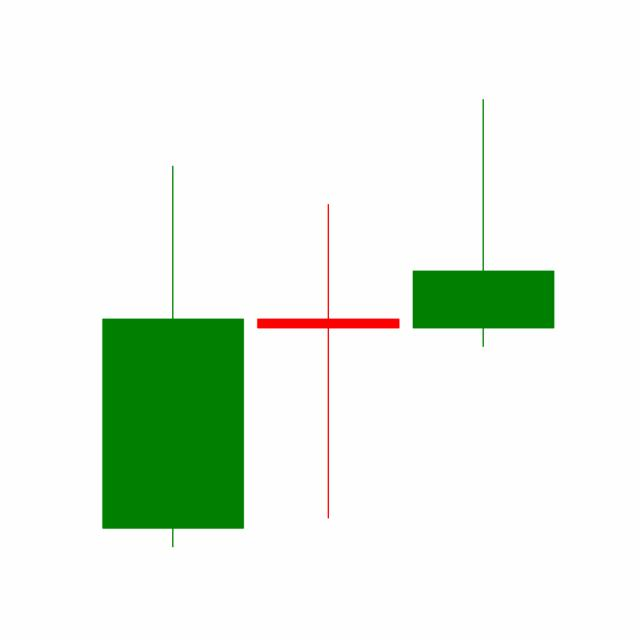Spinning Top: (249, 199, 406, 522)
